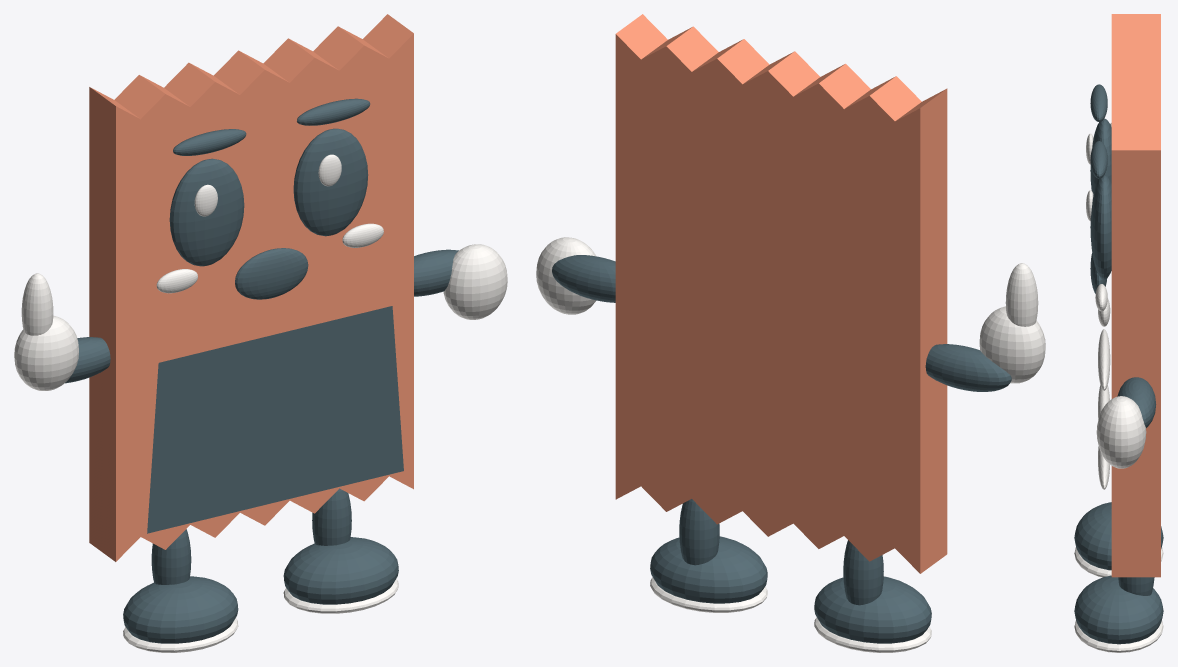
File: mascote-estudo-esquematico.glb
The picture shows the model from 3 angles, left to right: view 1: azimuth 30°, elevation 25°; view 2: azimuth 150°, elevation 25°; view 3: azimuth 270°, elevation 25°; orthographic projection. The views are drawn at different scales.
Visible parts, largest first — view 1: Corpo-comanda, Avental-estudo-sem-decalque, Sapato (×2), Olho (×2), Luva-lateral, Luva-positivo, Perna (×2), Braco (×2), Sorriso, Sobrancelha (×2), Sola (×2), Polegar (+1 smaller); view 2: Corpo-comanda, Sapato (×2), Braco (×2), Perna (×2), Luva-positivo, Sola (×2), Luva-lateral, Polegar; view 3: Corpo-comanda, Sapato (×2), Luva-lateral, Olho (×2), Sola (×2), Linha-pedido (×3), Sobrancelha (×2), Braco, Perna, Brilho-olho (×2), Bochecha, Sorriso (+1 smaller).
Boxes of the visible parts, box(x1,y1,x2,y2) form: Corpo-comanda: box(89, 14, 413, 561); Avental-estudo-sem-decalque: box(147, 306, 403, 533); Sapato (×2): box(123, 537, 398, 643); Olho (×2): box(169, 128, 368, 266); Luva-lateral: box(443, 244, 507, 319); Luva-positivo: box(14, 315, 78, 390); Perna (×2): box(151, 488, 351, 584); Braco (×2): box(65, 249, 458, 383); Sorriso: box(235, 248, 308, 299); Sobrancelha (×2): box(173, 98, 370, 155); Sola (×2): box(123, 579, 398, 652); Polegar: box(21, 273, 53, 335); Corpo-comanda: box(615, 14, 947, 573); Sapato (×2): box(650, 536, 931, 643); Braco (×2): box(552, 255, 1011, 391); Perna (×2): box(679, 499, 883, 605); Luva-positivo: box(979, 306, 1045, 383); Sola (×2): box(650, 577, 931, 652); Luva-lateral: box(536, 237, 596, 314); Polegar: box(1005, 263, 1038, 326); Corpo-comanda: box(1111, 14, 1160, 577); Sapato (×2): box(1074, 502, 1163, 644); Luva-lateral: box(1096, 396, 1146, 468); Olho (×2): box(1090, 118, 1111, 279); Sola (×2): box(1074, 547, 1163, 652); Linha-pedido (×3): box(1098, 329, 1110, 489); Sobrancelha (×2): box(1090, 84, 1107, 178); Braco: box(1117, 377, 1156, 427); Perna: box(1118, 577, 1154, 595); Brilho-olho (×2): box(1086, 133, 1093, 220); Bochecha: box(1095, 284, 1107, 311); Sorriso: box(1090, 253, 1107, 293).
Size of the model in its own units: 2.14 by 2.31 by 0.36.
